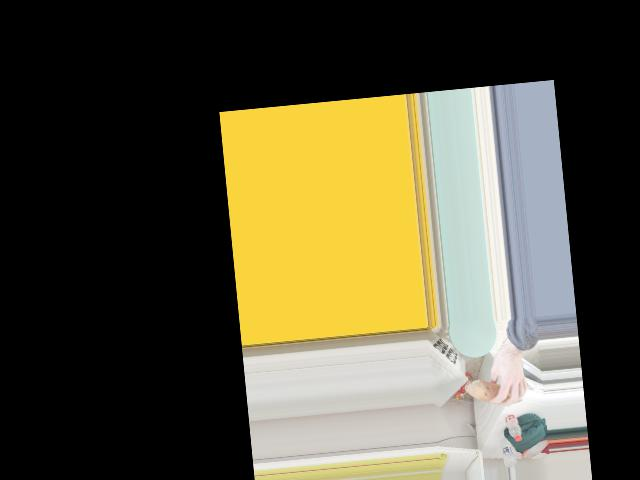sweet_potato: (466, 377, 525, 408)
